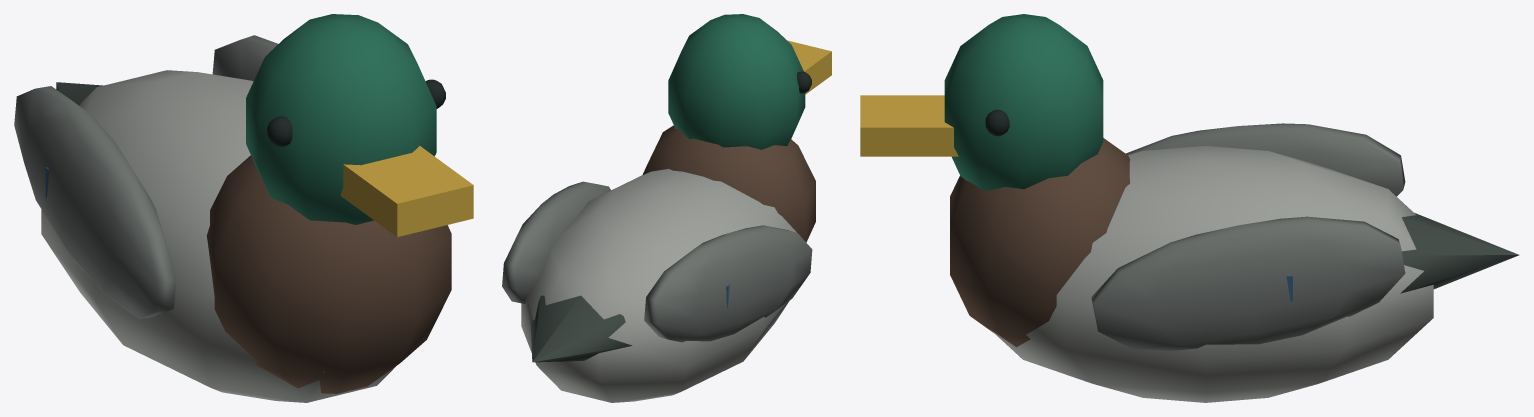
Rendered from mallard-3.glb.
3 views of the same model, side by side, from view 1: azimuth 30°, elevation 25°; view 2: azimuth 150°, elevation 25°; view 3: azimuth 270°, elevation 25° (orthographic). The views are drawn at different scales.
Visible parts, largest first — view 1: part-0; view 2: part-0; view 3: part-0.
Boxes of the visible parts, <box> form: part-0: <box>14,14,473,402</box>; part-0: <box>502,14,831,402</box>; part-0: <box>860,14,1519,402</box>.
Size of the model in its own units: 0.1948 by 0.2556 by 0.4167.
